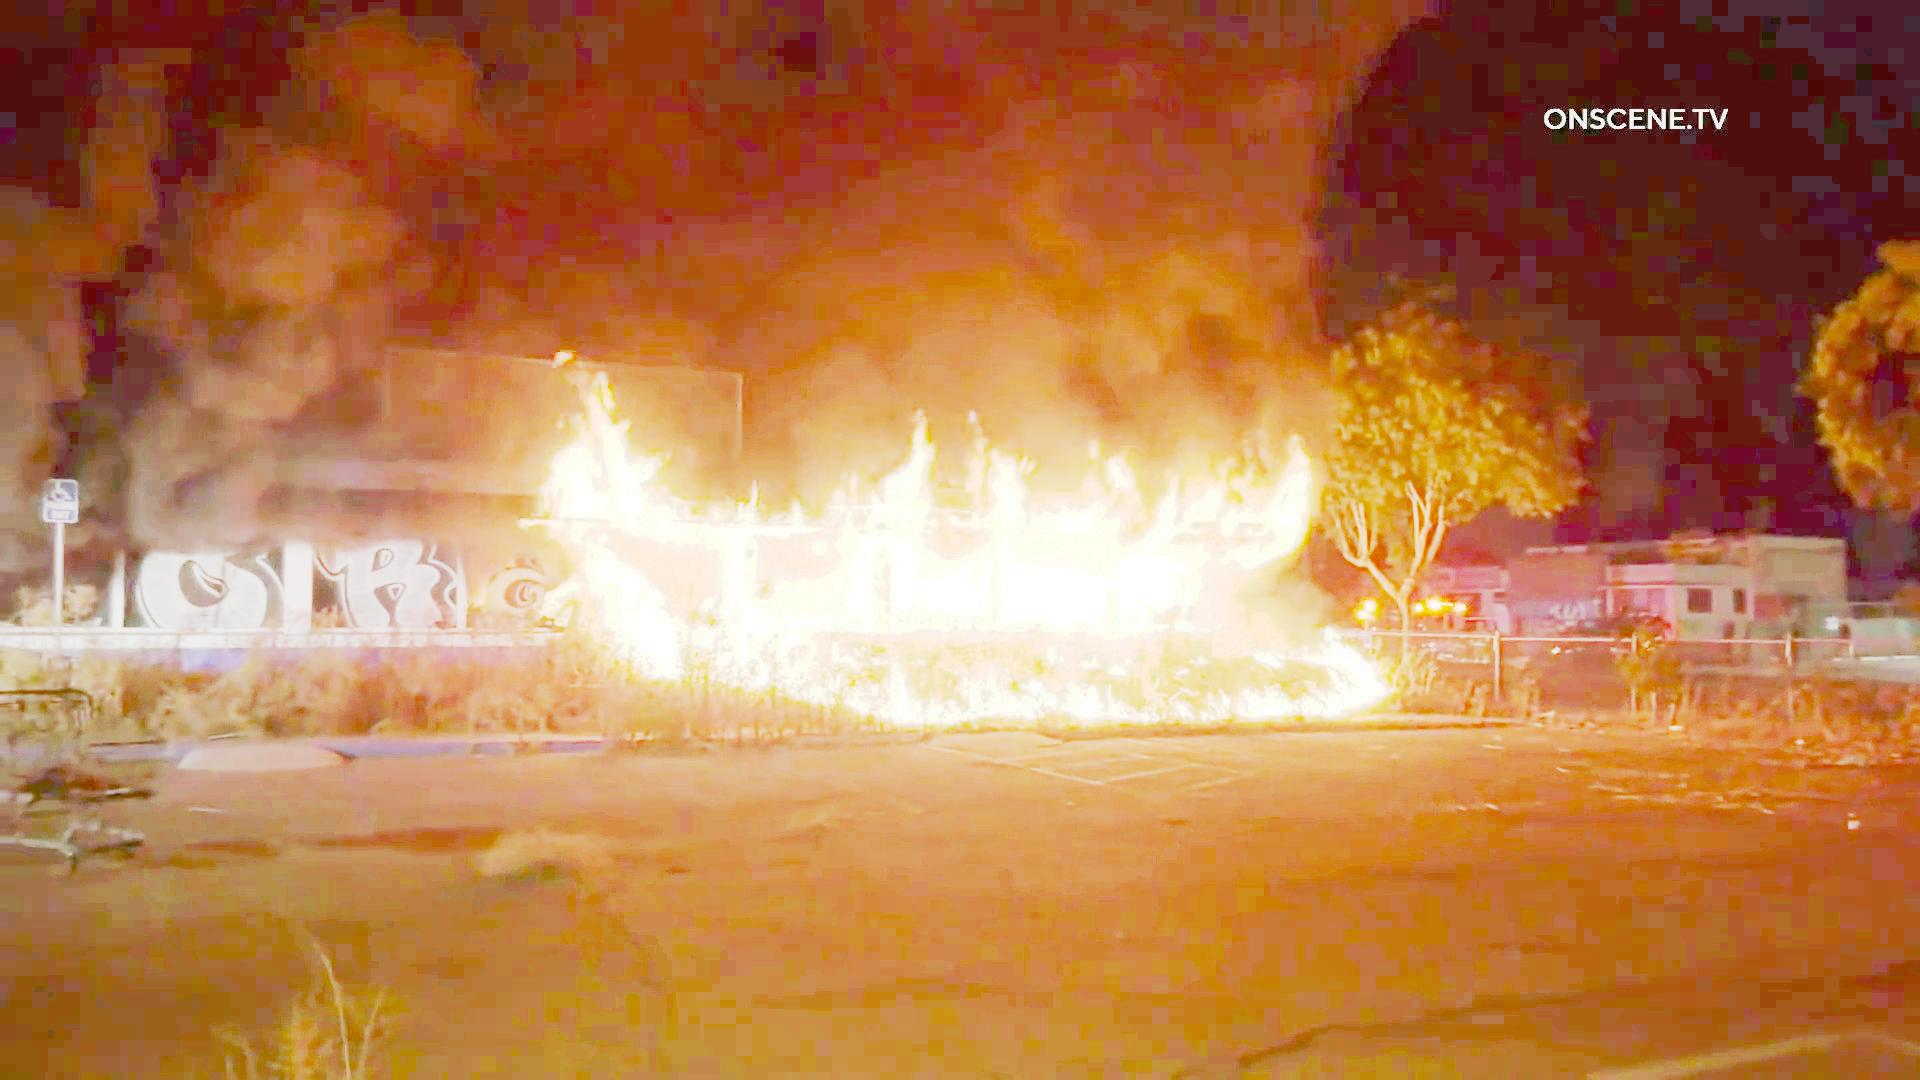fire: (538, 382, 1364, 719)
